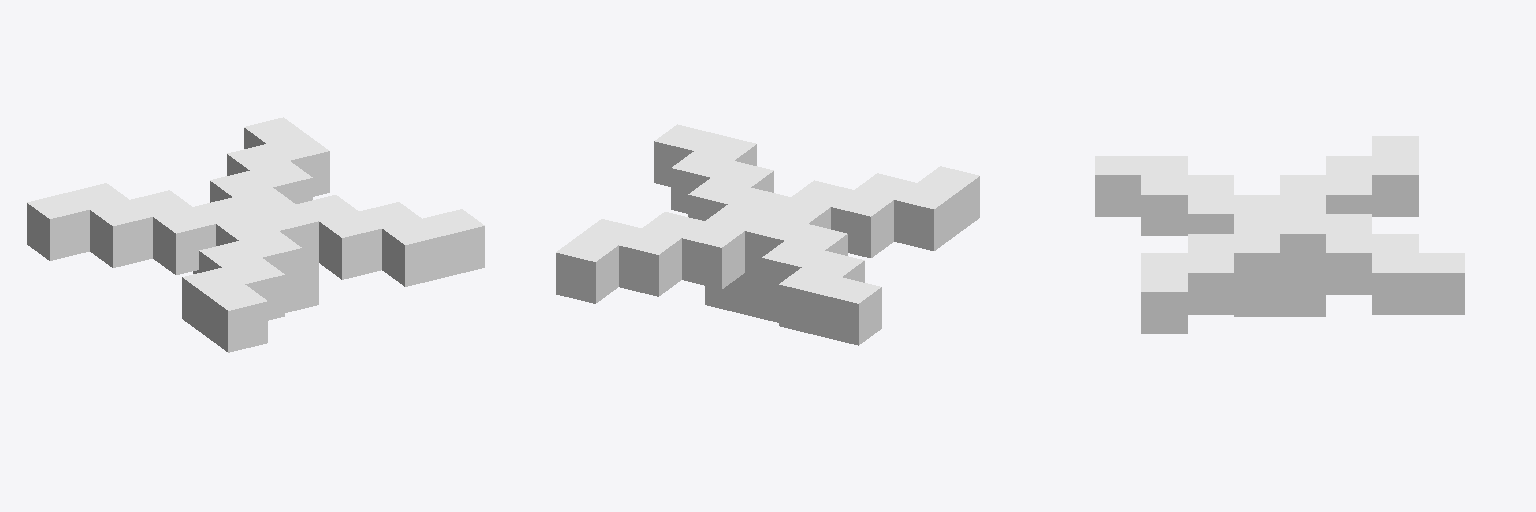
Rendered from Propeller.obj.
3 views of the same model, side by side, from view 1: azimuth 30°, elevation 25°; view 2: azimuth 150°, elevation 25°; view 3: azimuth 270°, elevation 25° (orthographic).
Parts seen in each view (by area): view 1: object 1; view 2: object 1; view 3: object 1.
Part boxes in pixels (x1,y1,x2,y2): object 1: (27,117,484,352); object 1: (556,124,979,345); object 1: (1095,136,1464,333).
Size of the model in its own units: 0.8 by 0.2 by 0.8.